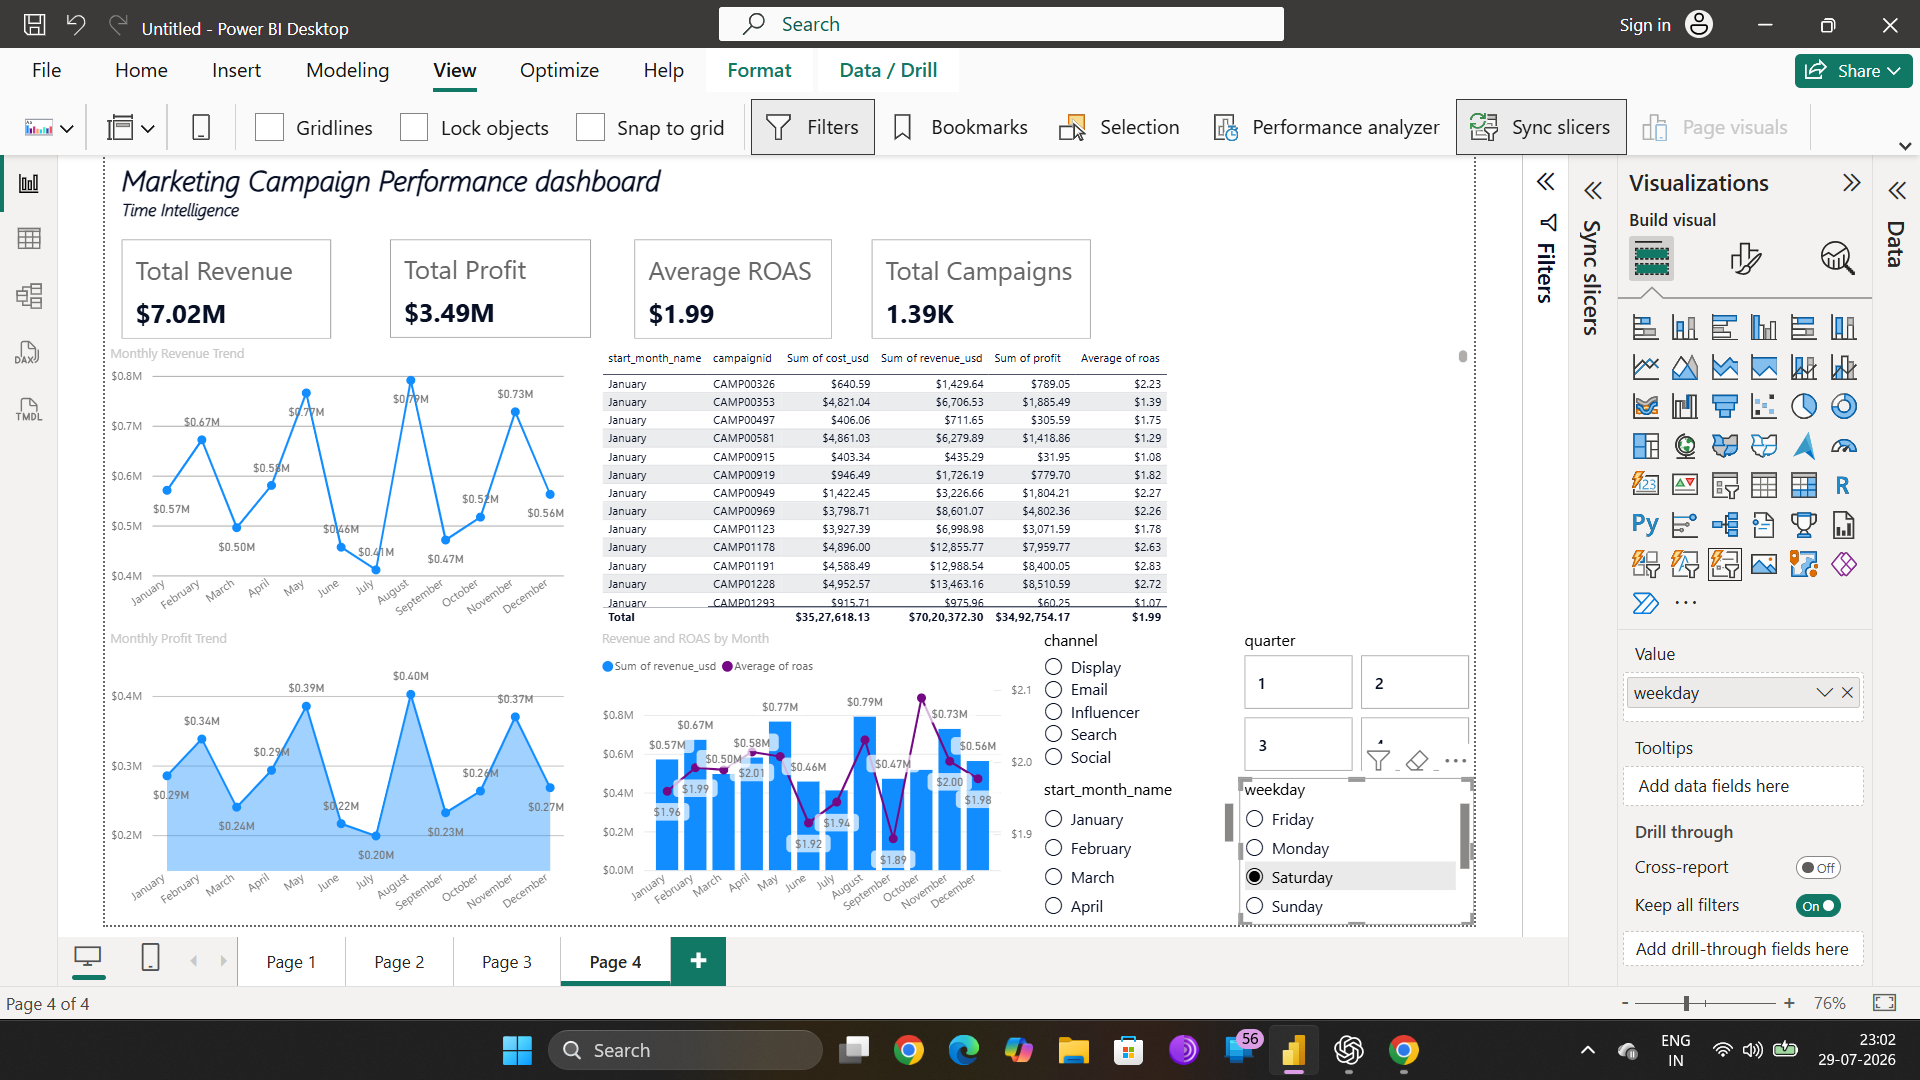

The dashboard page shown, as its layout file describes it:
{"tool":"powerbi","page":{"name":"Page 4","canvas":[1280,720],"ordinal":3},"visuals":[{"type":"textbox","box":[10,0,1270,74.3],"z":0},{"type":"cardVisual","fields":{"Data":["Sum(marketing_campaign_engineered.profit)"]},"box":[261.4,74.3,198.6,102.9],"z":1000},{"type":"cardVisual","fields":{"Data":["Avg(marketing_campaign_engineered.roas)"]},"box":[490,74,195.5,103],"z":2000},{"type":"cardVisual","fields":{"Data":["CountNonNull(marketing_campaign_engineered.campaignid)"]},"box":[711.9,74,215.3,103],"z":3000},{"type":"cardVisual","fields":{"Data":["Sum(marketing_campaign_engineered.revenue_usd)"]},"box":[10.6,74,206,103],"z":4000},{"type":"lineChart","title":"Monthly Revenue Trend","fields":{"Category":["marketing_campaign_engineered.start_month_name"],"Y":["Sum(marketing_campaign_engineered.revenue_usd)"]},"box":[0,177.1,434.3,267.1],"z":5000},{"type":"areaChart","title":"Monthly Profit Trend","fields":{"Category":["marketing_campaign_engineered.start_month_name"],"Y":["Sum(marketing_campaign_engineered.profit)"]},"box":[0,444.3,434.3,275.7],"z":6000},{"type":"lineClusteredColumnComboChart","title":"Revenue and ROAS by Month","fields":{"Category":["marketing_campaign_engineered.start_month_name"],"Y2":["Avg(marketing_campaign_engineered.roas)"],"Y":["Sum(marketing_campaign_engineered.revenue_usd)"]},"box":[460,444.3,412.9,275.7],"z":7000},{"type":"tableEx","fields":{"Values":["marketing_campaign_engineered.start_month_name","marketing_campaign_engineered.campaignid","Sum(marketing_campaign_engineered.cost_usd)","Sum(marketing_campaign_engineered.revenue_usd)","Sum(marketing_campaign_engineered.profit)","Avg(marketing_campaign_engineered.roas)"]},"box":[460,177.1,820,267.1],"z":8000},{"type":"listSlicer","fields":{"Values":["marketing_campaign_engineered.channel"]},"box":[872.9,444.3,187.1,138.6],"z":10000},{"type":"listSlicer","fields":{"Values":["marketing_campaign_engineered.start_month_name"]},"box":[872.9,582.9,187.1,137.1],"z":11000},{"type":"advancedSlicerVisual","fields":{"Values":["marketing_campaign_engineered.quarter"]},"box":[1060,444.3,220,138.6],"z":12000},{"type":"listSlicer","fields":{"Values":["marketing_campaign_engineered.weekday"]},"box":[1060,582.9,220,137.1],"z":13000}]}

Visuals, with their boxes on the page's 1280x720 design canvas (x1, y1, x2, y2). These are canvas units, not pixel positions in the 1920x1080 screenshot, which may show the page scaled, cropped or inside an application window:
textbox: bbox=(10, 0, 1280, 74)
cardVisual - Sum(marketing_campaign_engineered.profit): bbox=(261, 74, 460, 177)
cardVisual - Avg(marketing_campaign_engineered.roas): bbox=(490, 74, 686, 177)
cardVisual - CountNonNull(marketing_campaign_engineered.campaignid): bbox=(712, 74, 927, 177)
cardVisual - Sum(marketing_campaign_engineered.revenue_usd): bbox=(11, 74, 217, 177)
"Monthly Revenue Trend" lineChart: bbox=(0, 177, 434, 444)
"Monthly Profit Trend" areaChart: bbox=(0, 444, 434, 720)
"Revenue and ROAS by Month" lineClusteredColumnComboChart: bbox=(460, 444, 873, 720)
tableEx - marketing_campaign_engineered.start_month_name x marketing_campaign_engineered.campaignid: bbox=(460, 177, 1280, 444)
listSlicer - marketing_campaign_engineered.channel: bbox=(873, 444, 1060, 583)
listSlicer - marketing_campaign_engineered.start_month_name: bbox=(873, 583, 1060, 720)
advancedSlicerVisual - marketing_campaign_engineered.quarter: bbox=(1060, 444, 1280, 583)
listSlicer - marketing_campaign_engineered.weekday: bbox=(1060, 583, 1280, 720)
